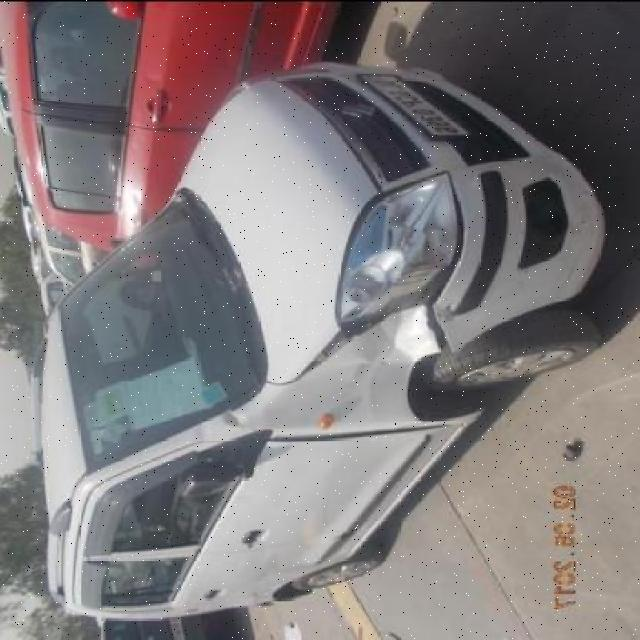damage: (292, 227, 470, 373), (269, 423, 446, 444), (353, 335, 404, 406), (416, 306, 465, 349), (221, 408, 252, 428)
